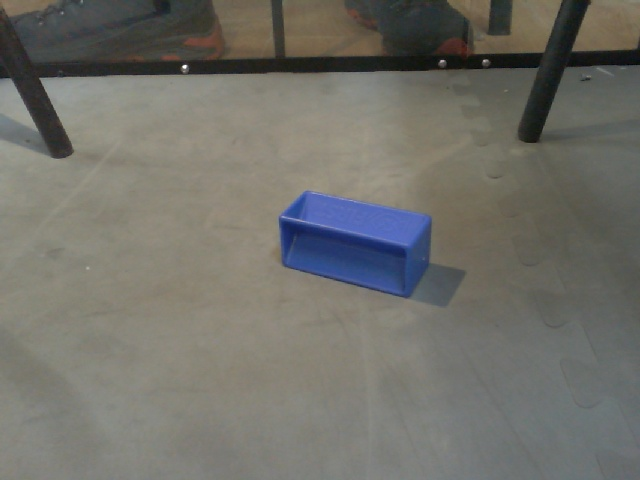BlueSample: (268, 187, 440, 295)
